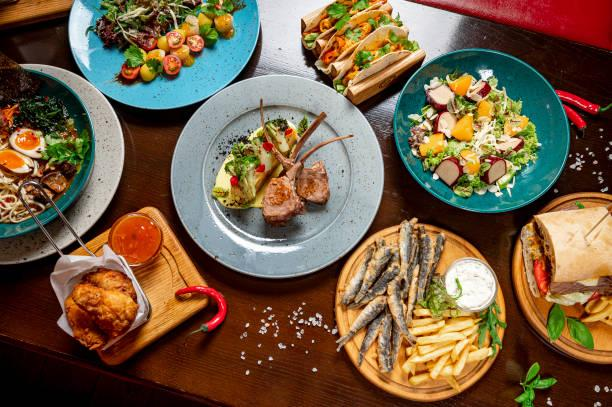Braised Crucian Carp: (168, 74, 376, 279), (335, 222, 500, 401), (391, 47, 566, 213), (65, 0, 262, 114), (513, 190, 612, 364), (0, 57, 95, 237)
